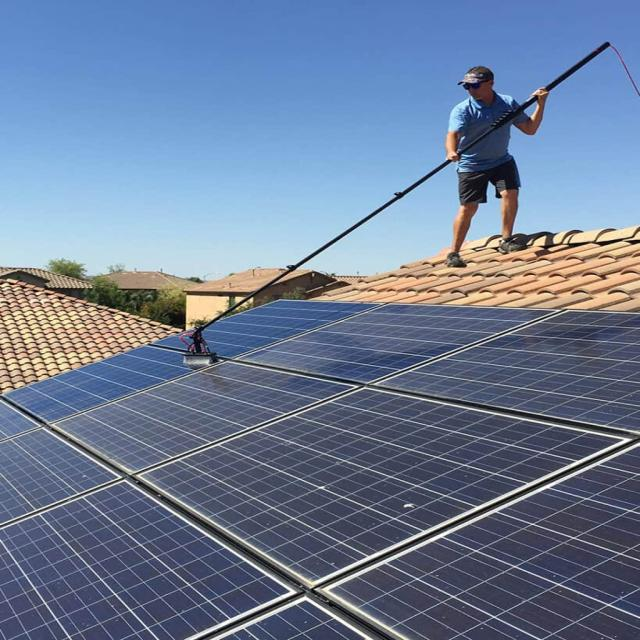clean-solar-panel: (5, 336, 190, 421), (205, 300, 374, 358)
dust-solar-panel: (3, 305, 638, 640)
